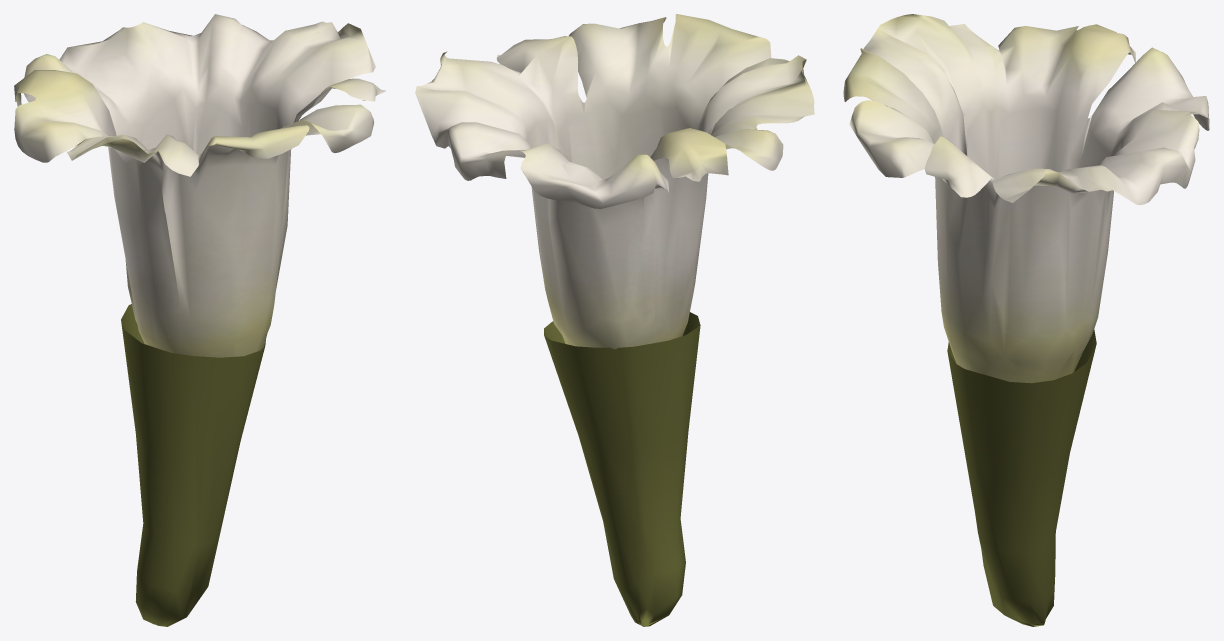
The picture shows the model from 3 angles, left to right: view 1: azimuth 30°, elevation 25°; view 2: azimuth 150°, elevation 25°; view 3: azimuth 270°, elevation 25°; orthographic projection. The views are drawn at different scales.
Parts seen in each view (by area): view 1: G-Ellipse164 70% 70% 70% 70%.003; view 2: G-Ellipse164 70% 70% 70% 70%.003; view 3: G-Ellipse164 70% 70% 70% 70%.003.
Part boxes in pixels (<box>): G-Ellipse164 70% 70% 70% 70%.003: <box>14,14,386,626</box>; G-Ellipse164 70% 70% 70% 70%.003: <box>415,14,814,626</box>; G-Ellipse164 70% 70% 70% 70%.003: <box>843,14,1209,626</box>.
Size of the model in its own units: 0.3208 by 0.5 by 0.2943.
Materials: 2 (1 with a texture image).
